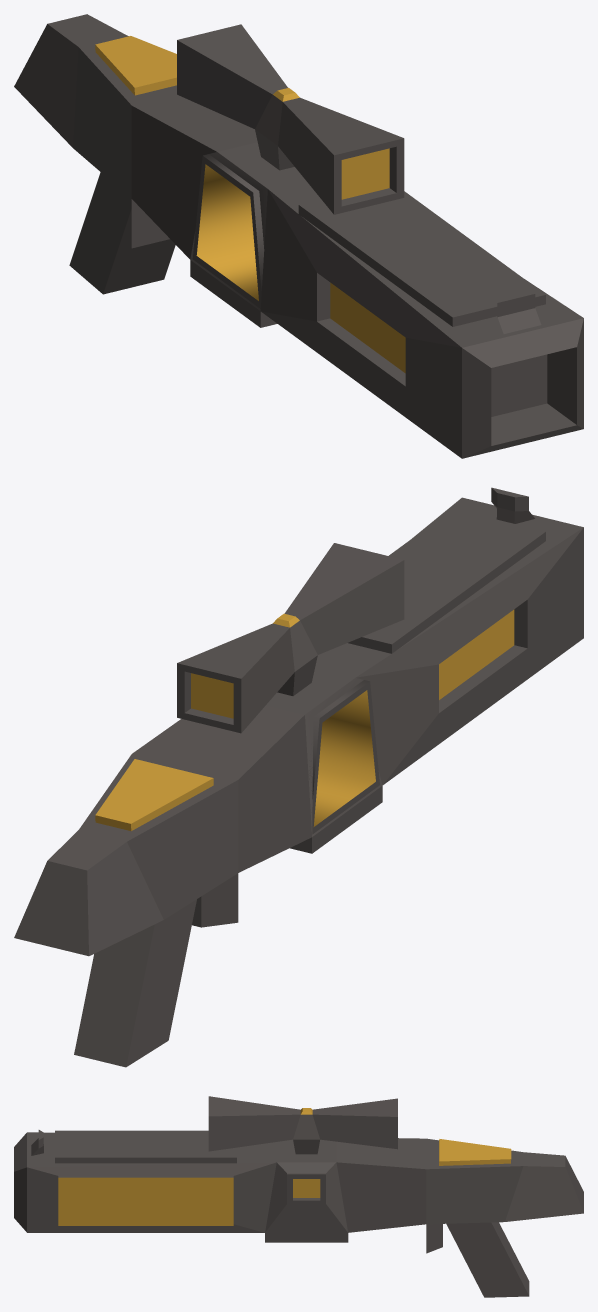
Rendered from SniperRifle.fbx.
The picture shows the model from 3 angles, top to bottom: view 1: azimuth 30°, elevation 25°; view 2: azimuth 150°, elevation 25°; view 3: azimuth 270°, elevation 25°; orthographic projection. The views are drawn at different scales.
Parts seen in each view (by area): view 1: Cube.001; view 2: Cube.001; view 3: Cube.001.
Part boxes in pixels (x1,y1,x2,y2): Cube.001: [14, 14, 583, 458]; Cube.001: [14, 487, 583, 1067]; Cube.001: [14, 1096, 583, 1297].
Size of the model in its own units: 210 by 487 by 1371.
